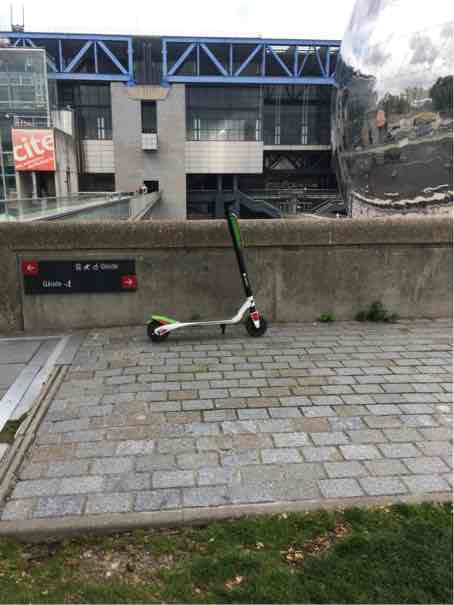scooter: (143, 197, 273, 346)
